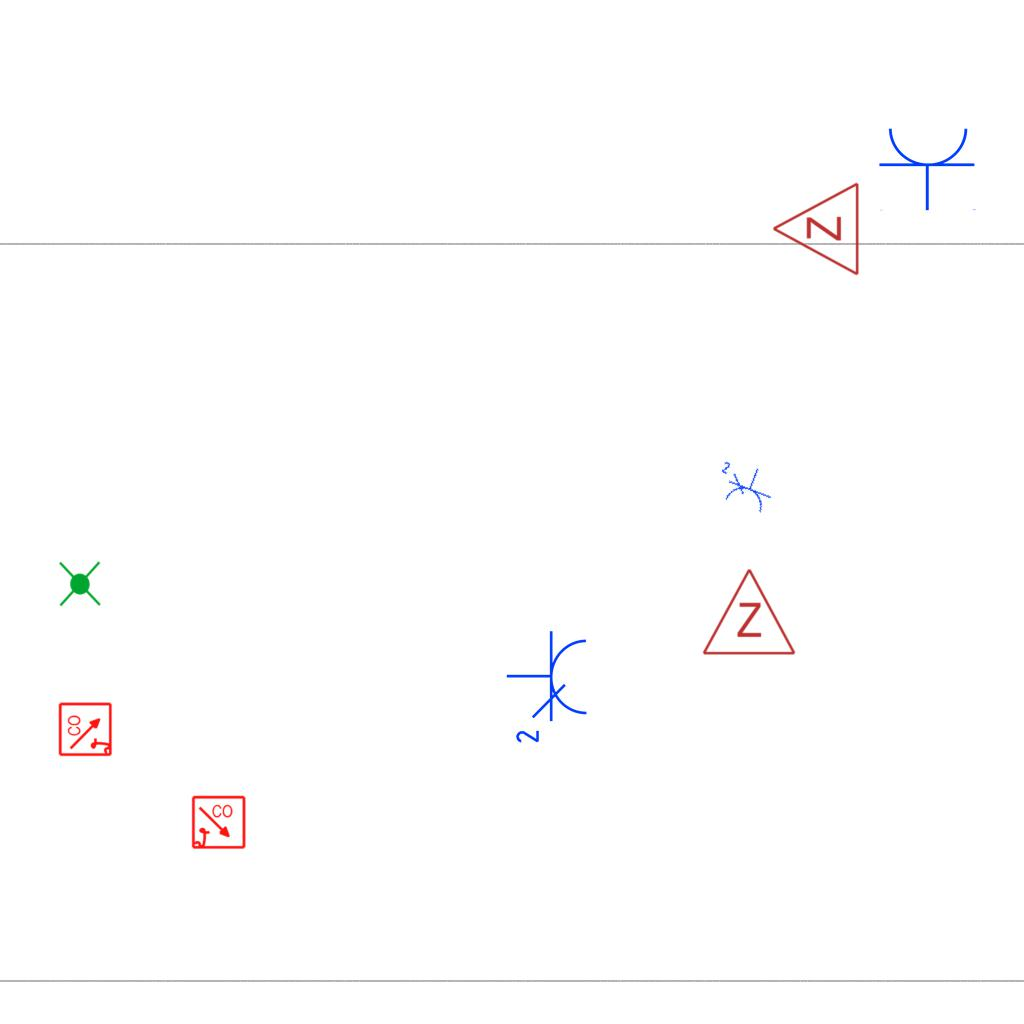Notlichtbaustein_in_Allgemeinbeleuchtug_engebaut_Einbau_(1UG_und_2UG_Aufbauvaria: (55, 559, 106, 609)
ROA_Rauchmelder_optisch_mit_Signalgeber_(Sockelsirene): (191, 795, 247, 851), (58, 701, 114, 757)
Schukosteckdose_einfach: (878, 124, 978, 211)
Schukosteckdose_mehrfach: (505, 629, 593, 750), (708, 454, 780, 518)
Zimmersignalleuchte: (699, 562, 797, 662), (766, 181, 866, 279)
